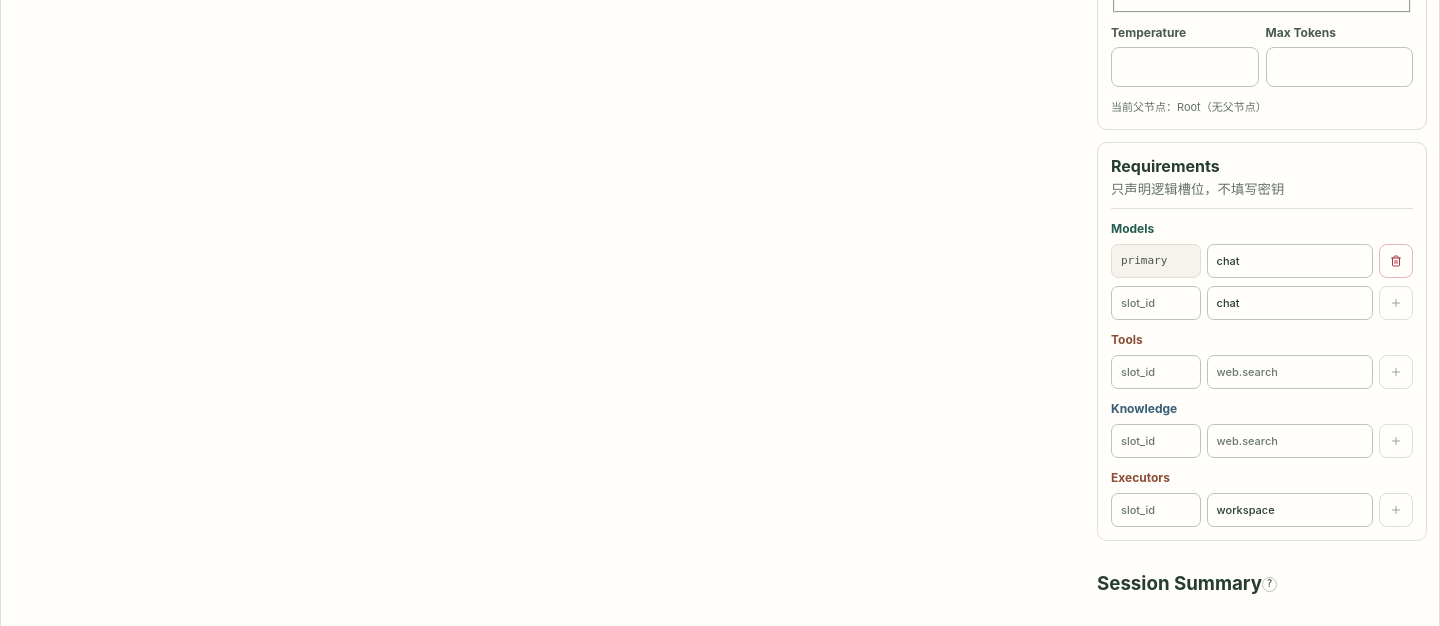
Test: round-trips explicit workspace selection through the actual Agent canvas and JSON
(page scrolled)
Type "sandbox" into the field named "Executors 新 Slot ID".
click(1156, 510); type("sandbox")  # box [1111,493,1201,527]
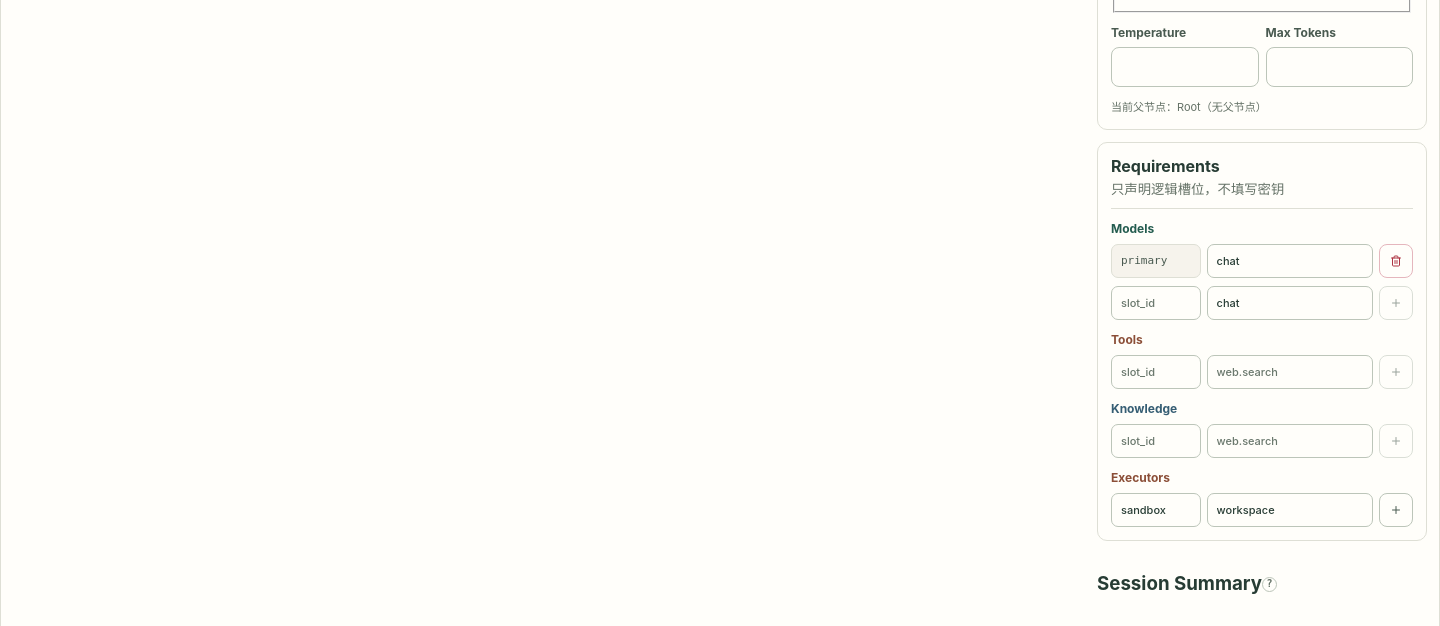
Click the button named "添加 Executors Slot".
click(1396, 510)  # box [1379,493,1413,527]
(page scrolled)
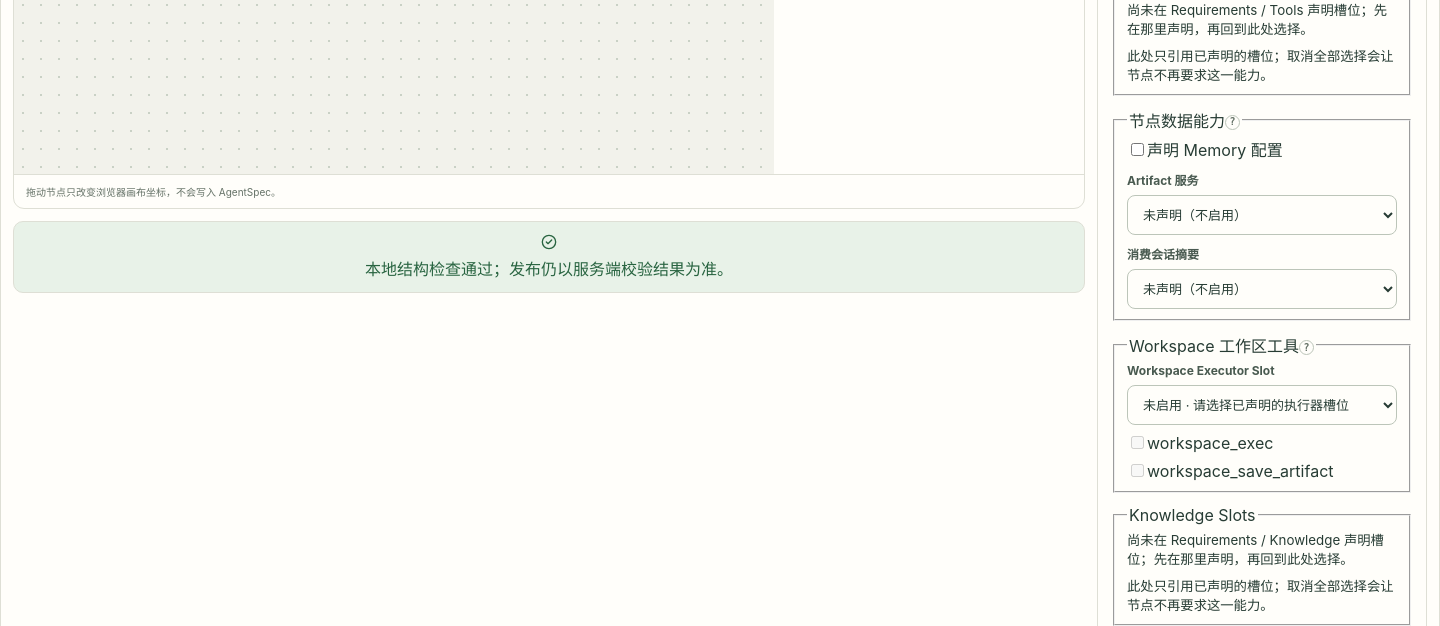
Select "sandbox" in the dropdown labelled "Workspace Executor Slot" at coordinates (1262, 405), box [1127,385,1397,425]
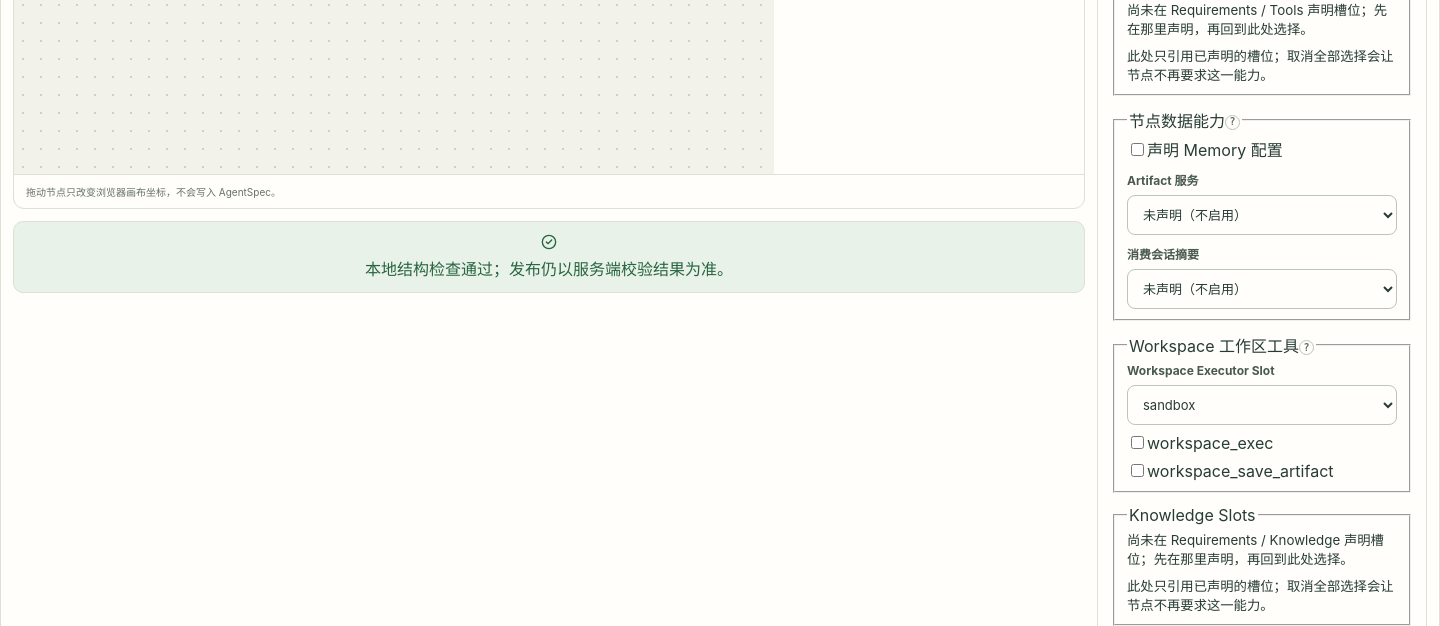
Click the checkbox labelled "workspace_exec".
click(1138, 442)  # box [1131,436,1144,449]
(page scrolled)
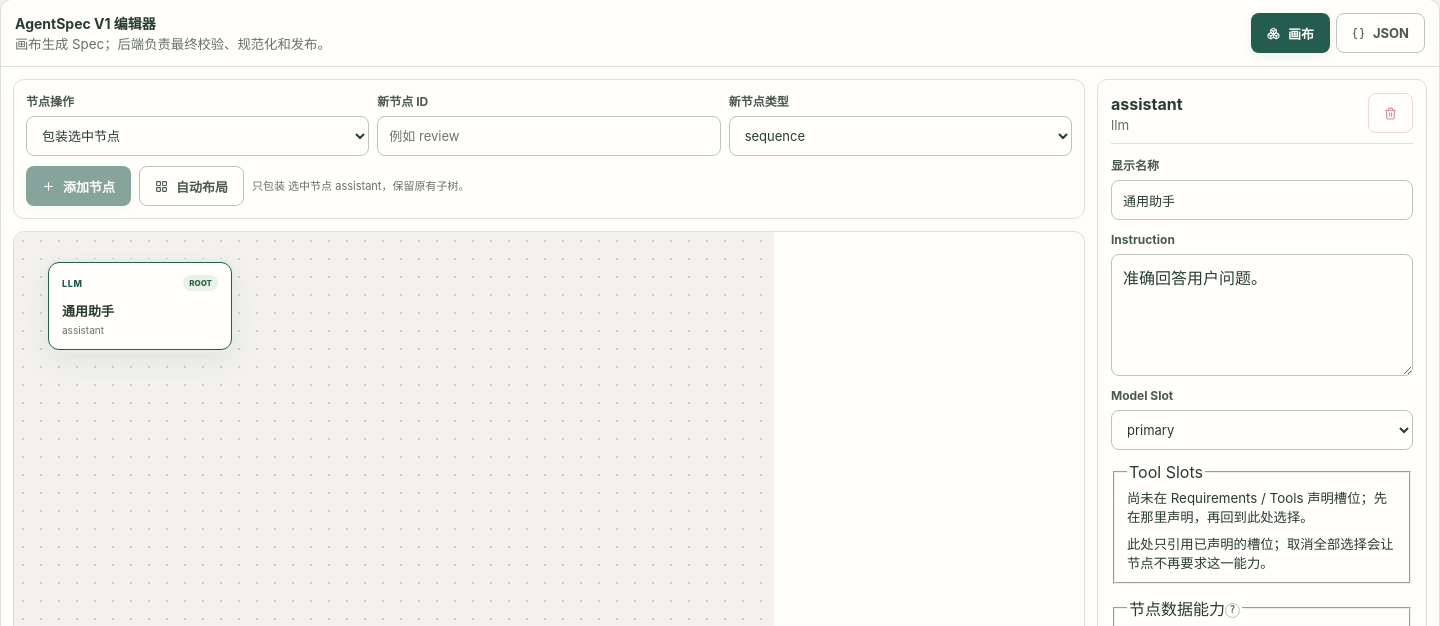
Click the button "JSON".
click(1380, 33)  # box [1336,13,1425,53]
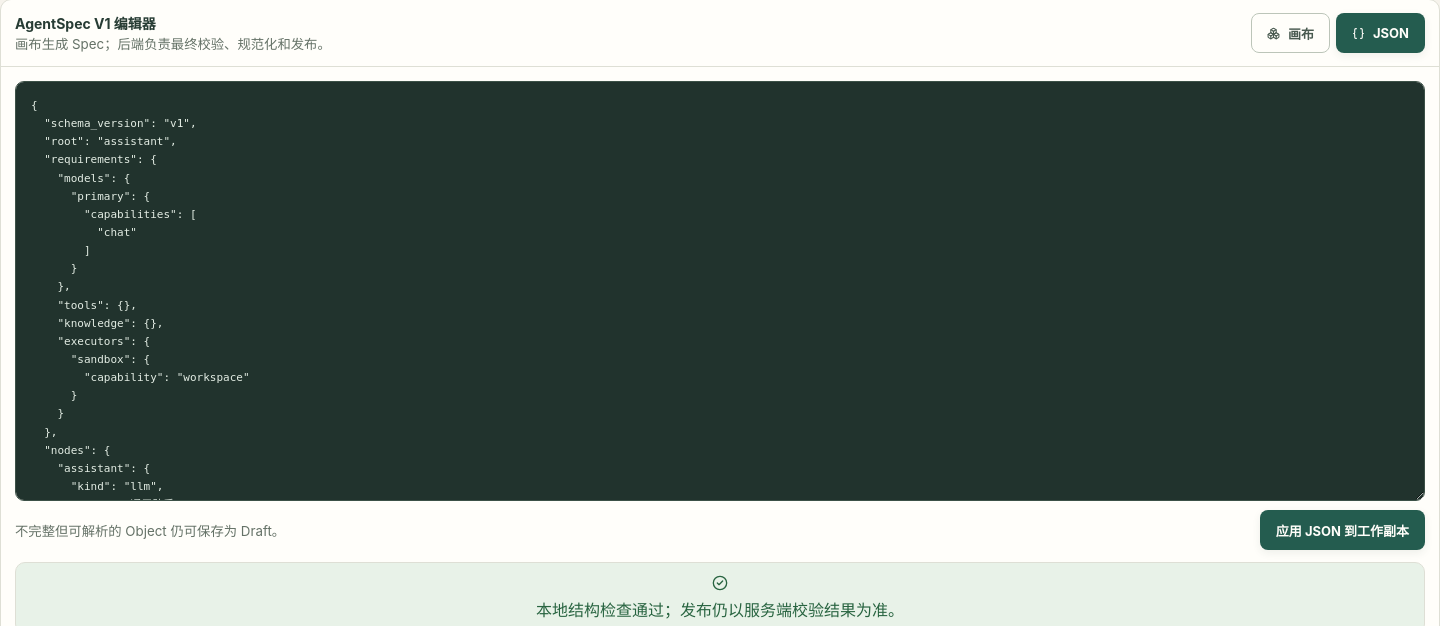
Click the button "画布".
click(1290, 33)  # box [1251,13,1330,53]
(page scrolled)
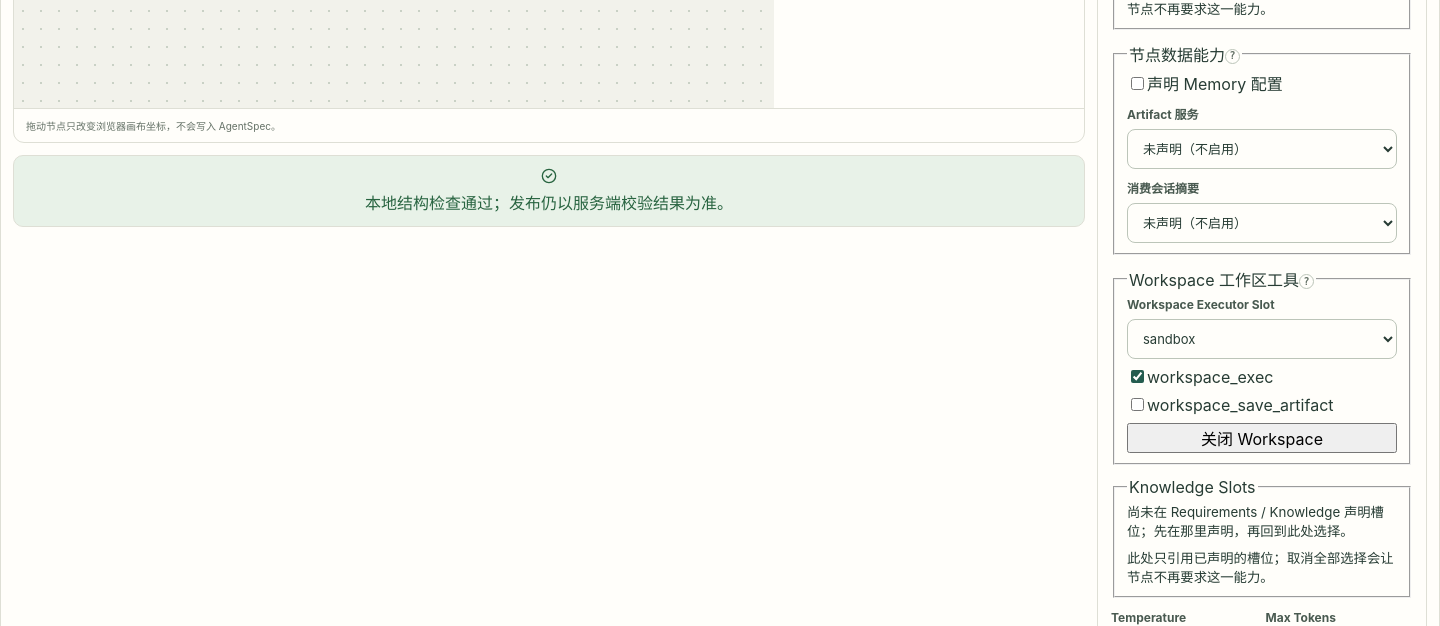
Expected: the checkbox labelled "workspace_exec" is checked, [1131,370,1144,383]
Expected: the checkbox labelled "workspace_save_artifact" is not checked, [1131,398,1144,411]
